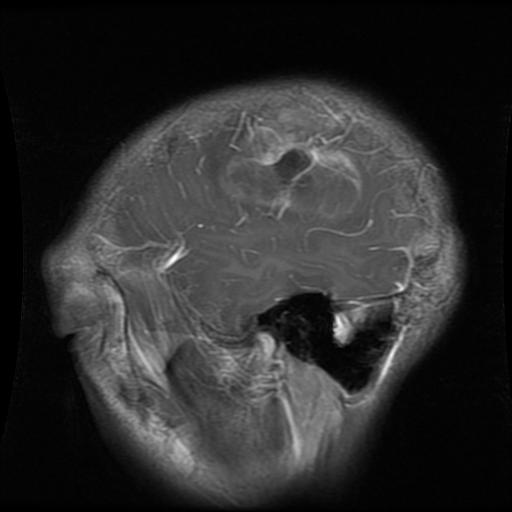Gliomia_tumour: (218, 106, 365, 216)
